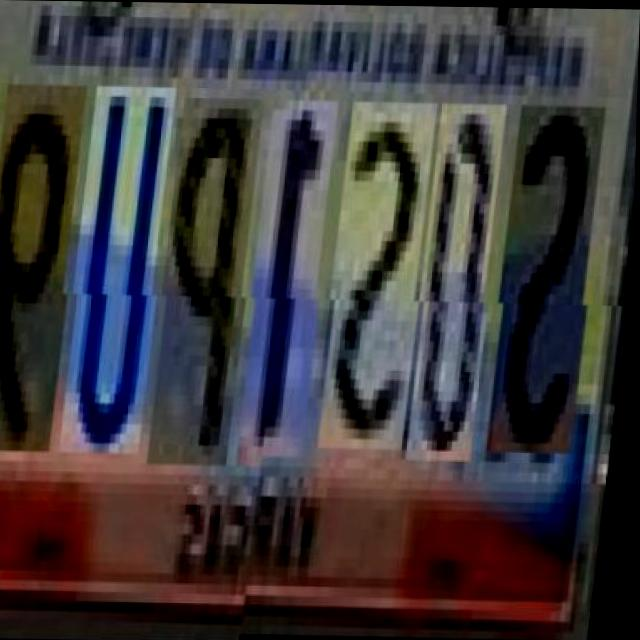0: (412, 113, 510, 470)
1: (243, 110, 342, 467)
9: (0, 85, 92, 452)
p: (154, 98, 268, 465)
s: (492, 114, 608, 462), (324, 111, 440, 458)
u: (66, 86, 180, 454)
